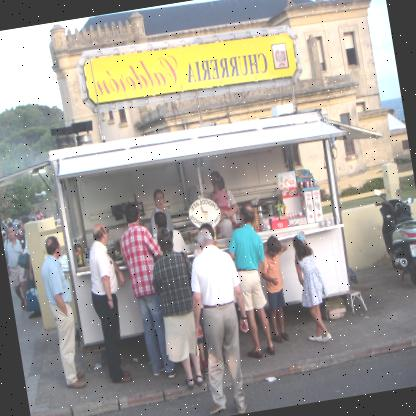Car: (17, 212, 38, 223), (5, 219, 20, 234)
